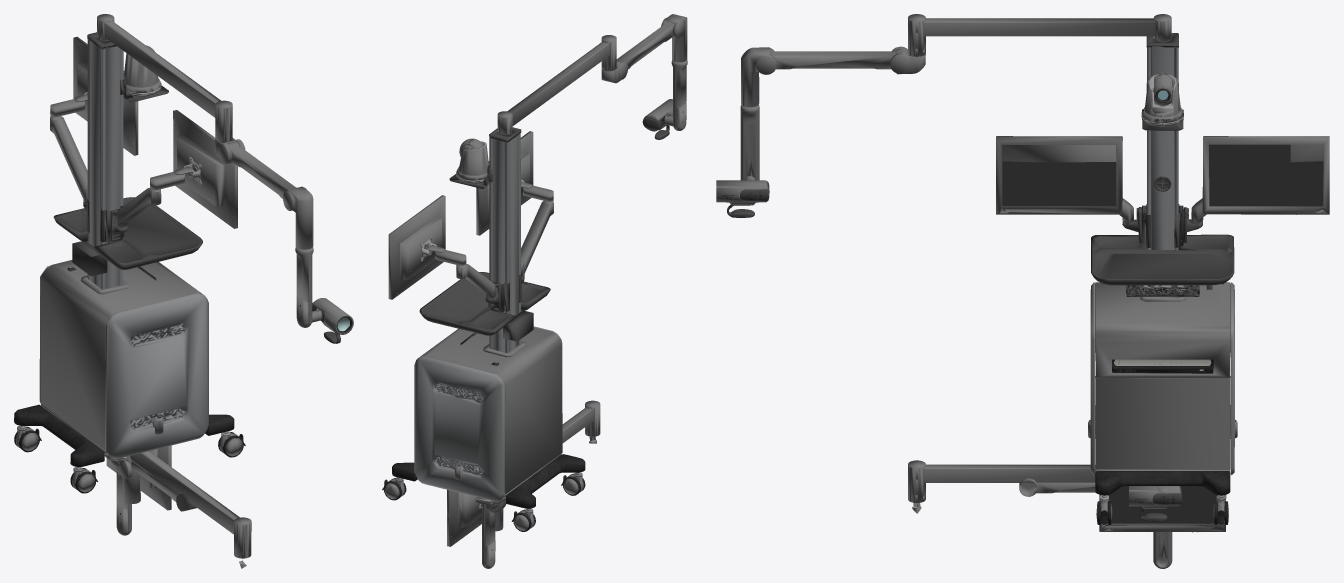
File: video_system_a01.glb
3 renders of one model, left to right at view 1: azimuth 30°, elevation 25°; view 2: azimuth 150°, elevation 25°; view 3: azimuth 270°, elevation 25°, orthographic. The views are drawn at different scales.
Parts seen in each view (by area): view 1: mainPart_01_mesh_00, fieldArm_01_mesh_00 (×2), monitor_01_mesh_00 (×2), cameraArm_02_mesh_00 (×2), fieldArmRotator_02_mesh_00 (×2), fieldArm_02_mesh_00 (×2), monitor_02_mesh_00, extenderRight_01_mesh_00, camera_02_mesh_00, cameraRotator_01_mesh_00, extenderLeft_01_mesh_00, extender_01_mesh_00 (+1 smaller); view 2: mainPart_01_mesh_00, monitor_02_mesh_00 (×2), fieldArm_01_mesh_00 (×2), monitor_01_mesh_00 (×2), cameraArm_02_mesh_00 (×2), extenderLeft_01_mesh_00, cameraRotator_01_mesh_00, fieldArm_02_mesh_00, fieldArmRotator_02_mesh_00, camera_02_mesh_00, extenderRight_01_mesh_00, fieldArmRotator_01_mesh_00; view 3: mainPart_01_mesh_00, monitor_02_mesh_00 (×2), monitor_01_mesh_00 (×2), fieldArm_01_mesh_00 (×2), fieldArm_02_mesh_00 (×2), camera_02_mesh_00 (×2), fieldArmRotator_02_mesh_00, cameraArm_02_mesh_00, cameraRotator_01_mesh_00.
Boxes of the visible parts, bbox=[...] form: mainPart_01_mesh_00: bbox=[14, 32, 234, 466]; fieldArm_01_mesh_00 (×2): bbox=[96, 14, 251, 568]; monitor_01_mesh_00 (×2): bbox=[107, 110, 237, 510]; cameraArm_02_mesh_00 (×2): bbox=[116, 247, 313, 535]; fieldArmRotator_02_mesh_00 (×2): bbox=[119, 186, 313, 503]; fieldArm_02_mesh_00 (×2): bbox=[131, 142, 296, 511]; monitor_02_mesh_00: bbox=[73, 36, 138, 155]; extenderRight_01_mesh_00: bbox=[50, 115, 87, 202]; camera_02_mesh_00: bbox=[312, 298, 353, 343]; cameraRotator_01_mesh_00: bbox=[124, 53, 161, 93]; extenderLeft_01_mesh_00: bbox=[116, 188, 161, 226]; extender_01_mesh_00: bbox=[150, 171, 184, 190]; mainPart_01_mesh_00: bbox=[392, 127, 585, 508]; monitor_02_mesh_00 (×2): bbox=[388, 195, 481, 546]; fieldArm_01_mesh_00 (×2): bbox=[497, 35, 616, 443]; monitor_01_mesh_00 (×2): bbox=[447, 131, 533, 546]; cameraArm_02_mesh_00 (×2): bbox=[482, 59, 687, 568]; extenderLeft_01_mesh_00: bbox=[521, 200, 553, 276]; cameraRotator_01_mesh_00: bbox=[456, 141, 488, 180]; fieldArm_02_mesh_00: bbox=[616, 22, 674, 69]; fieldArmRotator_02_mesh_00: bbox=[661, 14, 687, 62]; camera_02_mesh_00: bbox=[642, 99, 672, 139]; extenderRight_01_mesh_00: bbox=[456, 264, 495, 298]; fieldArmRotator_01_mesh_00: bbox=[601, 61, 627, 83]; mainPart_01_mesh_00: bbox=[1090, 33, 1234, 495]; monitor_02_mesh_00 (×2): bbox=[1099, 136, 1329, 532]; monitor_01_mesh_00 (×2): bbox=[996, 136, 1225, 531]; fieldArm_01_mesh_00 (×2): bbox=[908, 14, 1171, 513]; fieldArm_02_mesh_00 (×2): bbox=[771, 49, 1095, 496]; camera_02_mesh_00 (×2): bbox=[716, 176, 1182, 521]; fieldArmRotator_02_mesh_00: bbox=[741, 47, 776, 107]; cameraArm_02_mesh_00: bbox=[740, 104, 759, 180]; cameraRotator_01_mesh_00: bbox=[1141, 73, 1183, 122].
Size of the model in its own units: 0.7641 by 2.2 by 2.26.
Materials: 13 (6 with a texture image).
